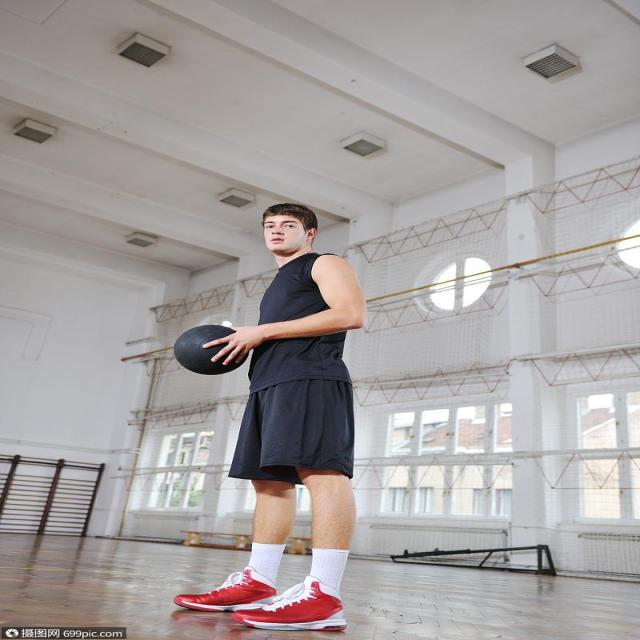rim: (176, 325, 245, 374)
